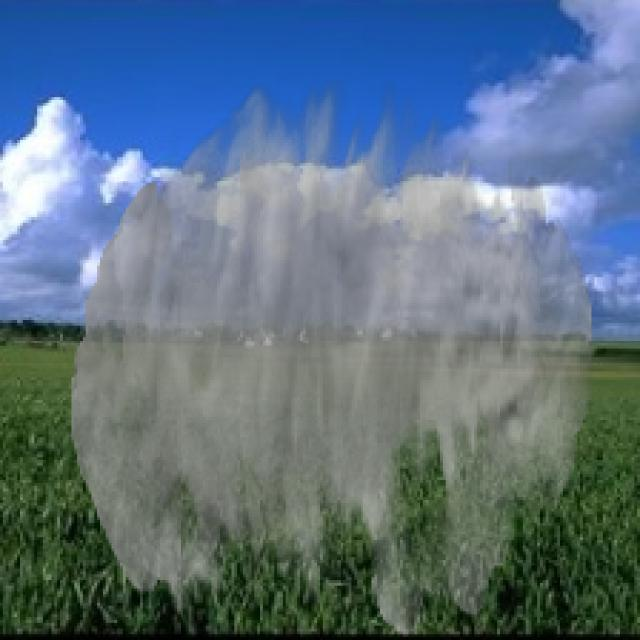smoke: (71, 80, 594, 637)
